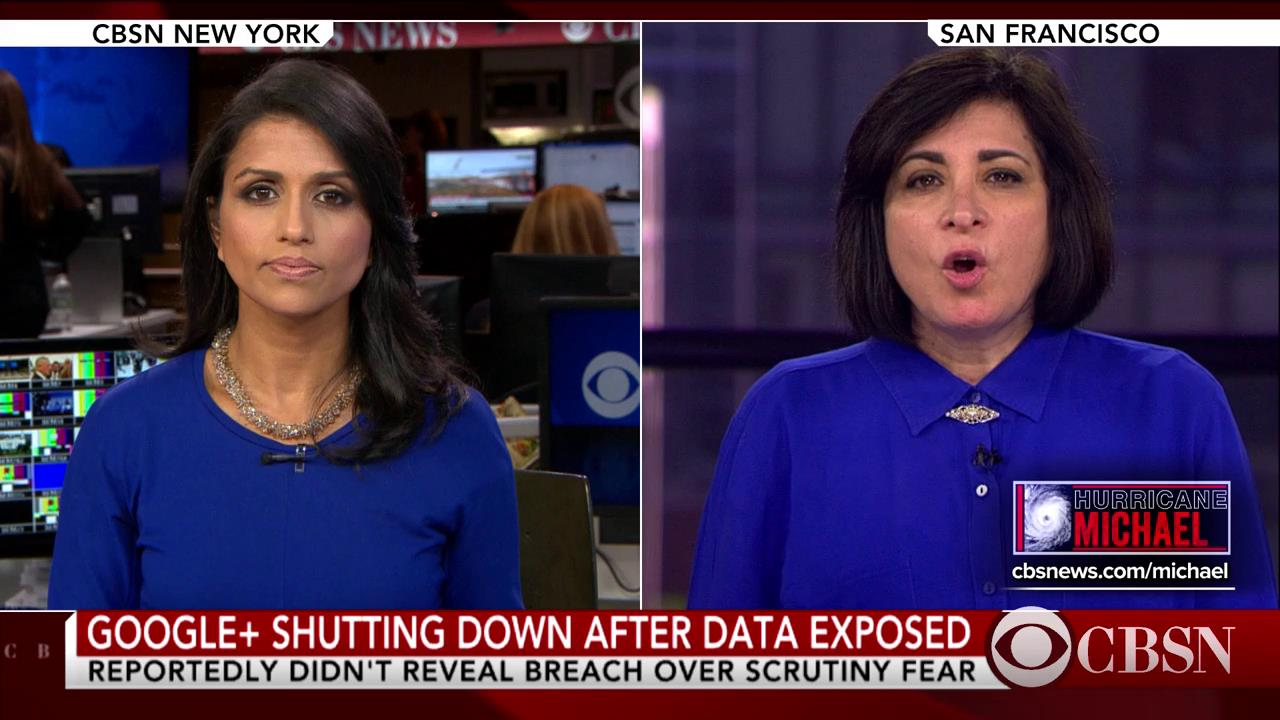C B: (1, 633, 51, 662)
CBSN: (1077, 624, 1238, 675)
CBSN NEW YORK: (90, 18, 324, 42)
GOOGLE+ SHUTTING DOWN AFTER DATA EXPOSED: (85, 611, 974, 652)
HURRICANE: (1074, 487, 1228, 509)
MICHAEL: (1071, 510, 1207, 548)
NEWS: (351, 20, 462, 51)
REPORTEDLY DIDN'T REVEAL BREACH OVER SCRUTINY FEAR: (86, 658, 979, 685)
SAN FRANCISCO: (938, 19, 1161, 45)
cbsnews.com/michael: (1010, 560, 1231, 581)
